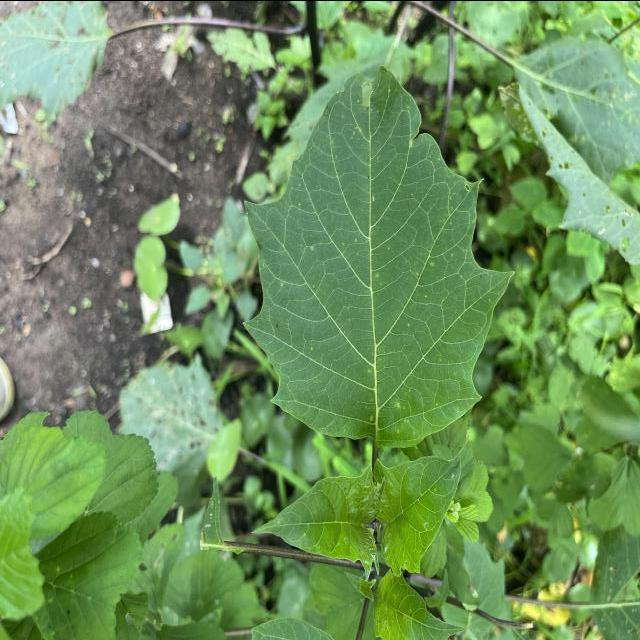Datura metal linn: (237, 60, 519, 450), (250, 460, 390, 584), (372, 432, 474, 580)
